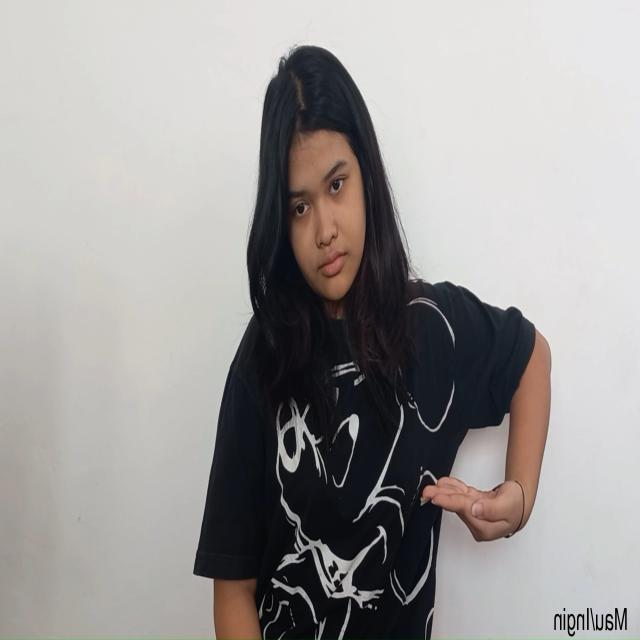Mau-Ingin -BISINDO-: (420, 473, 527, 545)
